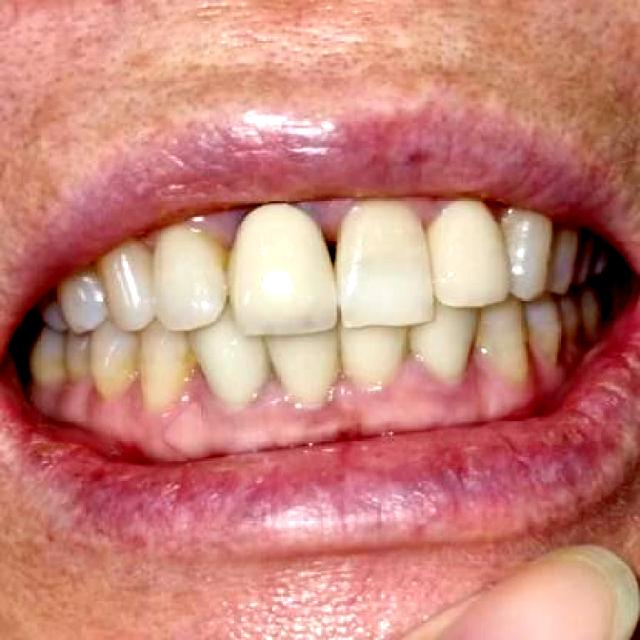Plaque: (385, 357, 484, 402), (164, 367, 218, 416), (326, 372, 367, 411), (248, 377, 294, 409), (297, 203, 343, 235), (203, 209, 243, 243), (113, 380, 138, 408)
